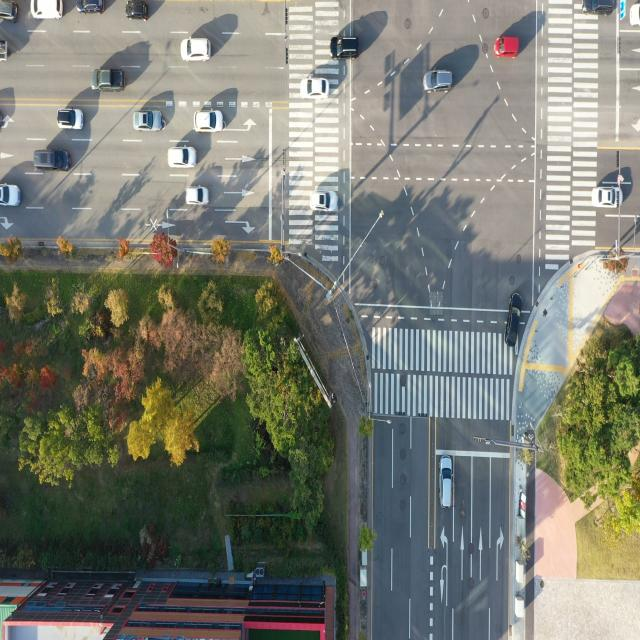car: (504, 290, 524, 350), (35, 150, 70, 175), (94, 65, 125, 93), (331, 33, 361, 61), (178, 37, 212, 61), (593, 184, 623, 210), (440, 456, 454, 510), (423, 68, 452, 94), (194, 109, 226, 132), (28, 0, 64, 20), (300, 75, 330, 99), (134, 109, 163, 132), (580, 0, 616, 18), (168, 145, 195, 168), (57, 107, 83, 130), (311, 192, 338, 214), (492, 34, 517, 56), (187, 185, 209, 206), (0, 183, 19, 207), (128, 0, 150, 20), (629, 0, 640, 34), (0, 0, 18, 20), (78, 0, 104, 11)
small_truck: (0, 35, 9, 60)
